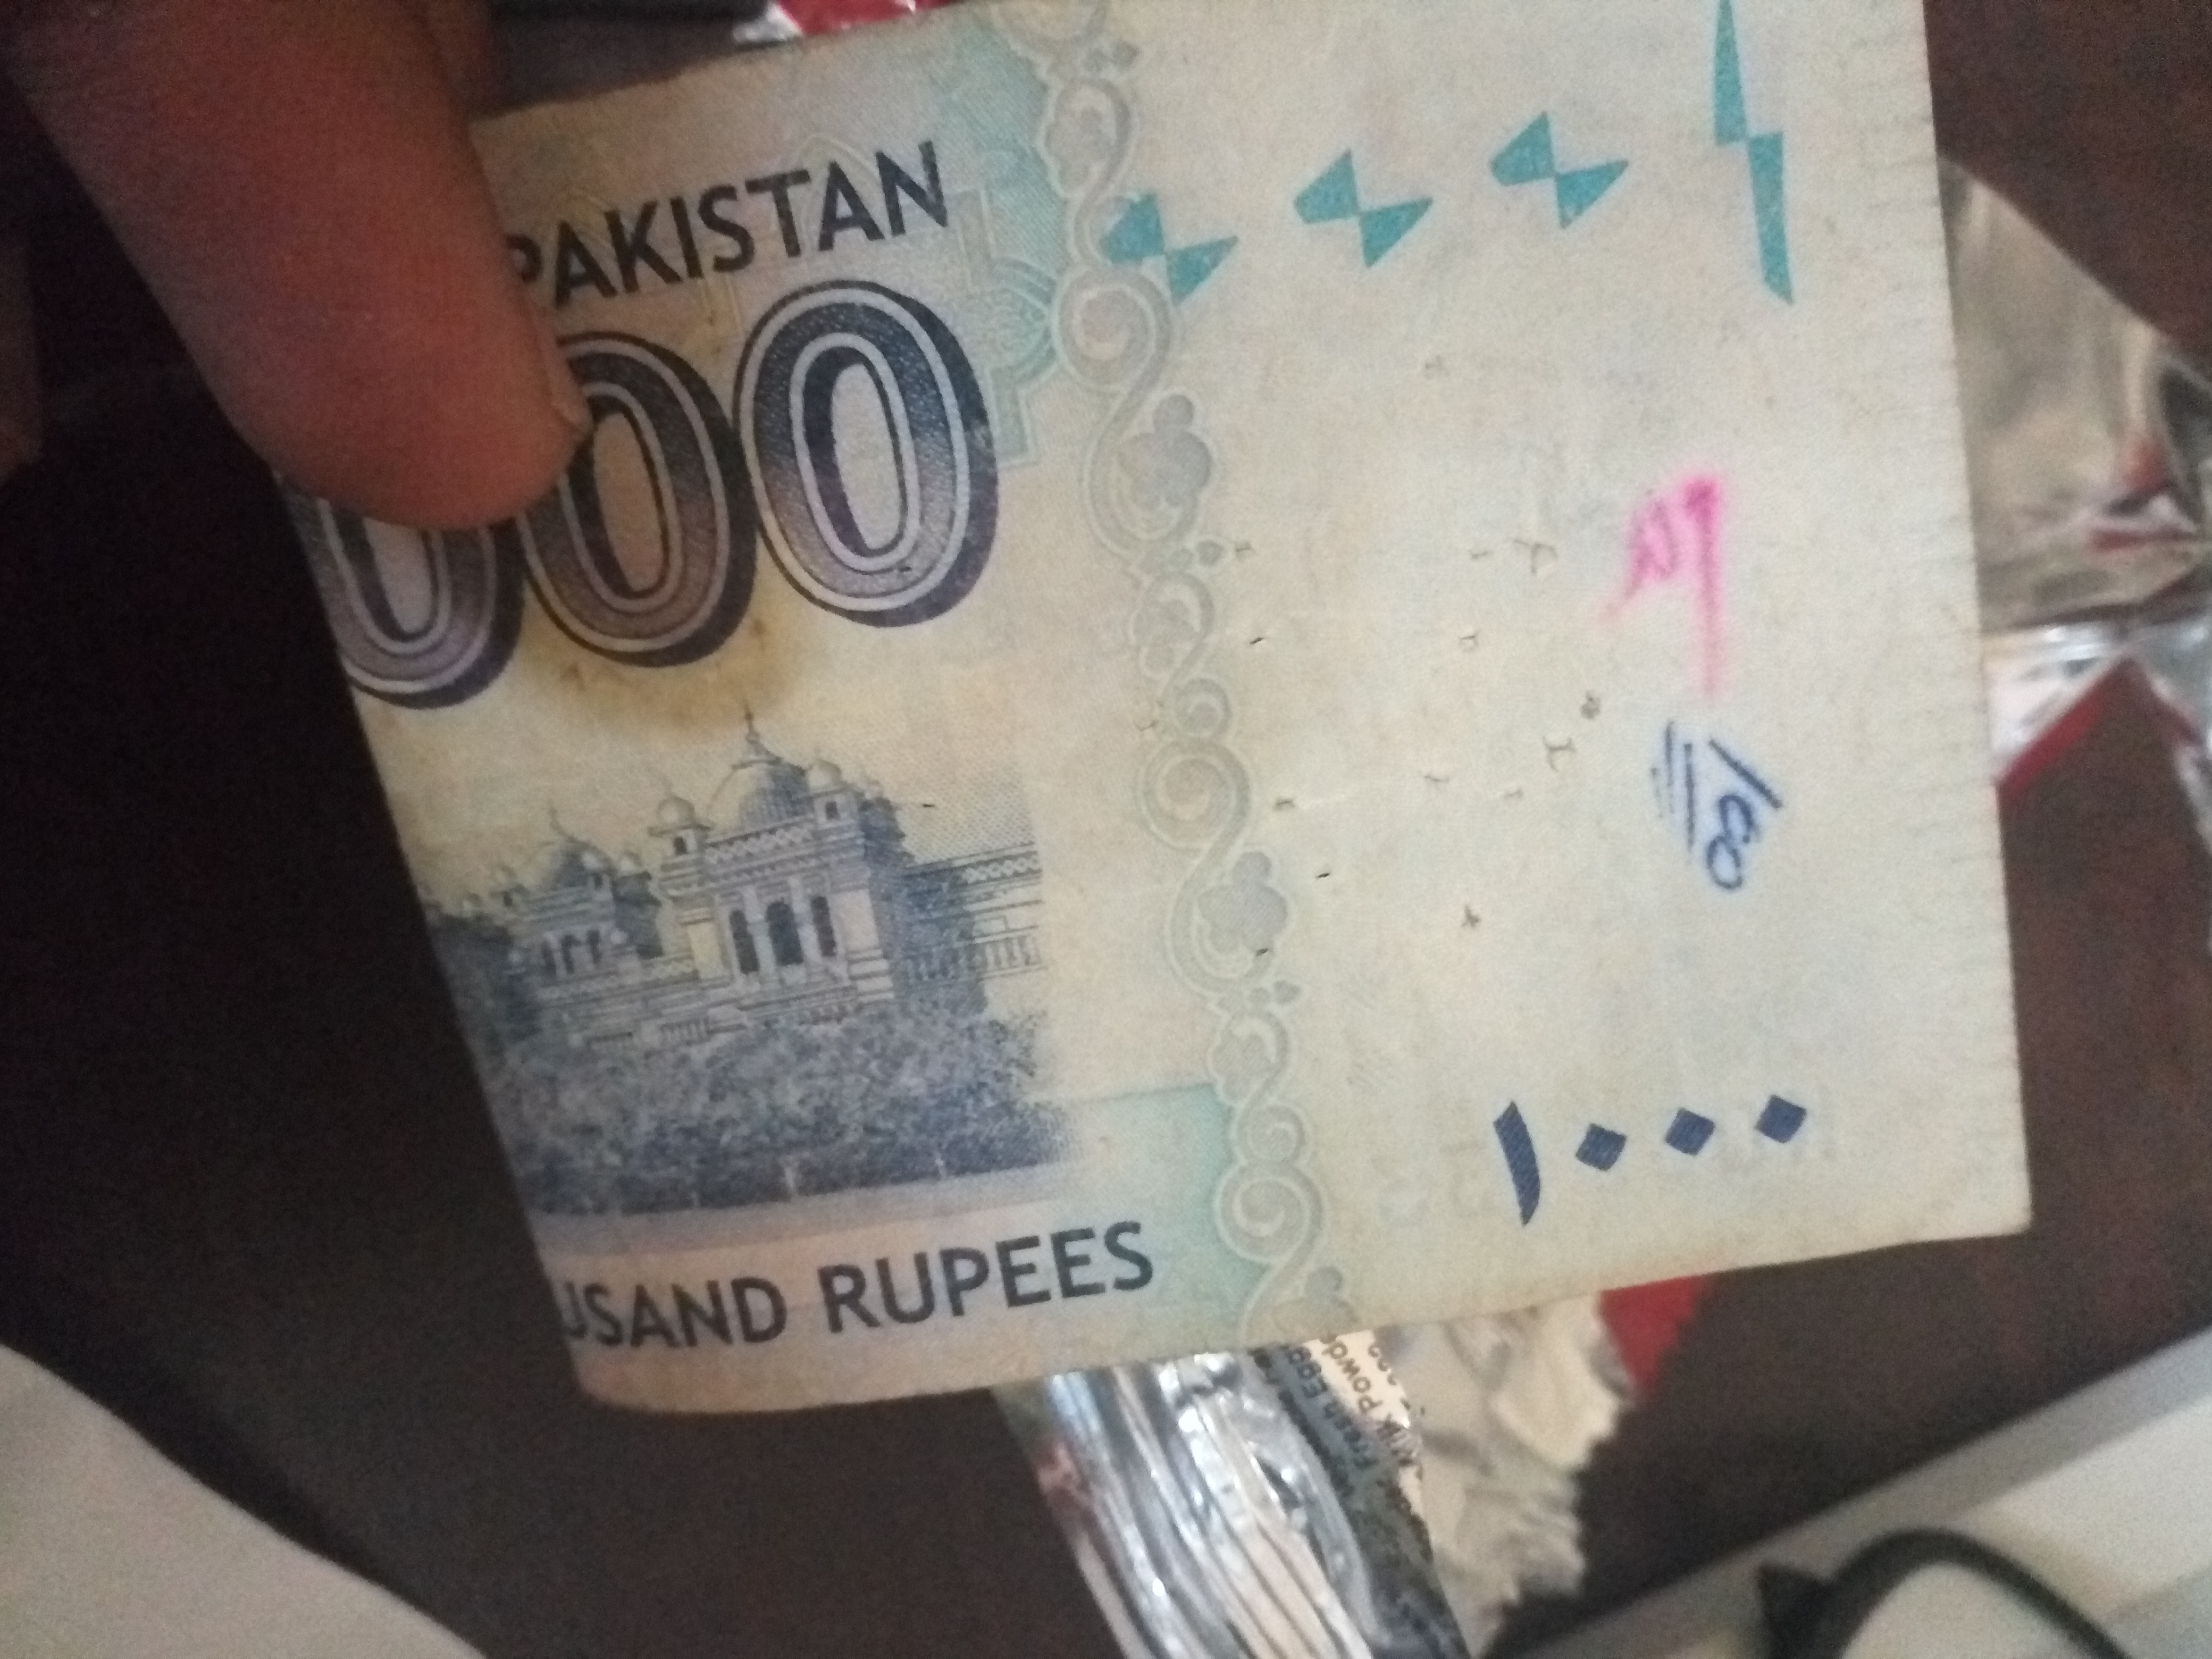1000 rupee: (174, 59, 2203, 1480), (1315, 892, 1932, 1281)
